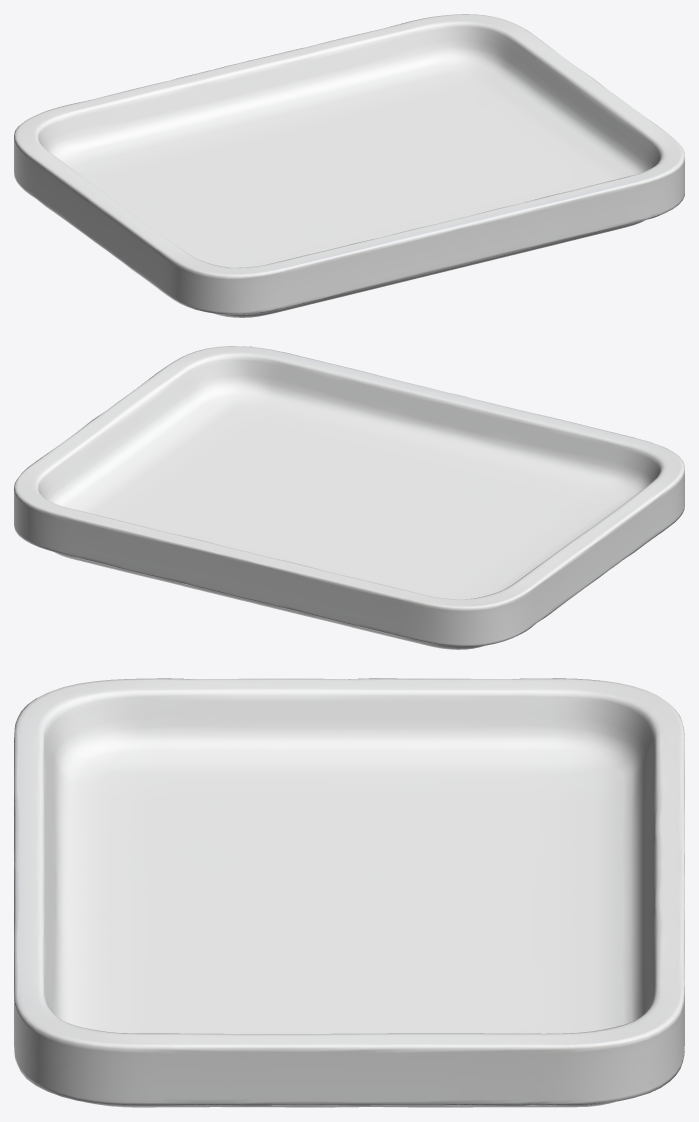
The model's file is plate.glb.
The picture shows the model from 3 angles, top to bottom: view 1: azimuth 30°, elevation 25°; view 2: azimuth 150°, elevation 25°; view 3: azimuth 270°, elevation 25°; orthographic projection. The views are drawn at different scales.
Parts seen in each view (by area): view 1: model; view 2: model; view 3: model.
Part boxes in pixels (<box>): model: <box>14,14,684,317</box>; model: <box>14,346,684,649</box>; model: <box>14,678,684,1107</box>.
Bounding box in the file's own units: 0.2717 × 0.03 × 0.2089.
Materials: 1 (1 with a texture image).
